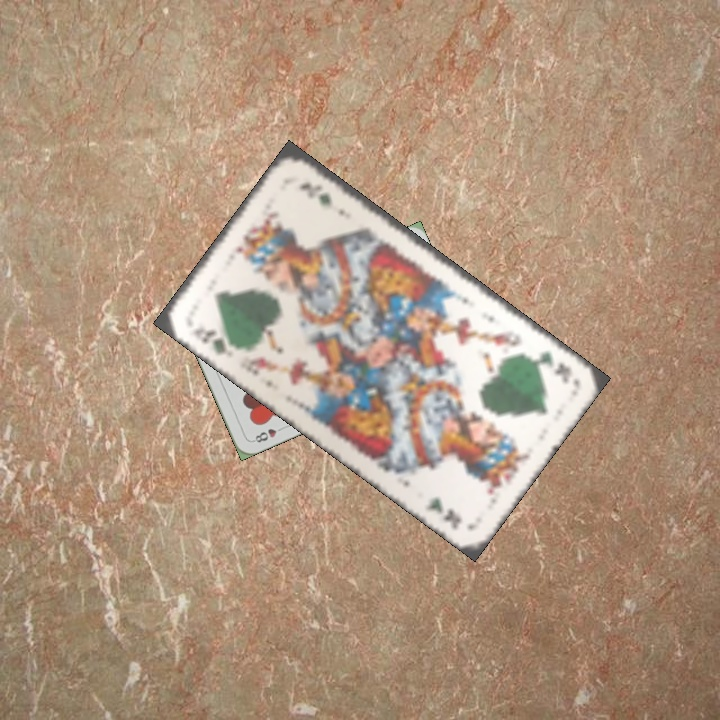GK: (522, 347, 575, 386), (190, 322, 240, 360)
H8: (249, 422, 287, 445)
